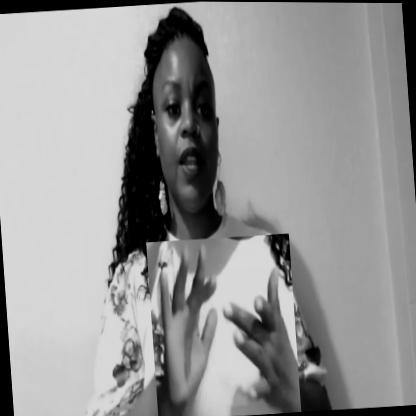Internet: (146, 232, 301, 416)
